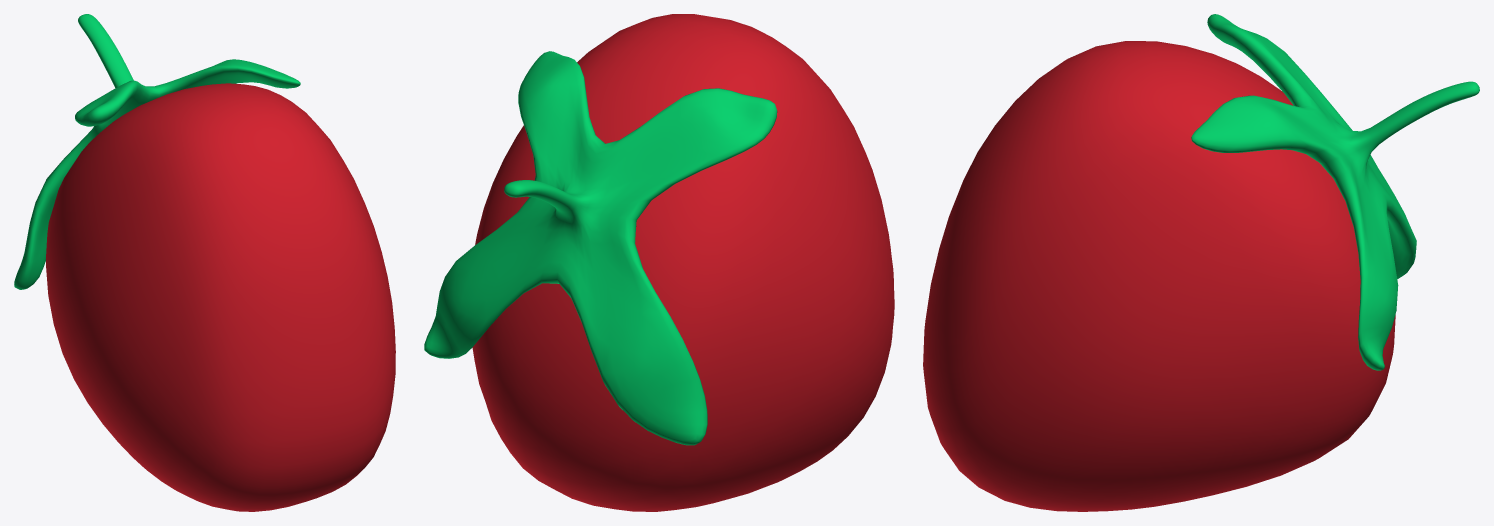
File: strawberrysmooth.fbx
3 renders of one model, left to right at view 1: azimuth 30°, elevation 25°; view 2: azimuth 150°, elevation 25°; view 3: azimuth 270°, elevation 25°, orthographic. The views are drawn at different scales.
Visible parts, largest first — view 1: polySurface4; view 2: polySurface4; view 3: polySurface4.
Part boxes in pixels (<box>): polySurface4: <box>14,14,395,511</box>; polySurface4: <box>424,14,894,511</box>; polySurface4: <box>923,14,1479,511</box>.
Bounding box in the file's own units: 1.17 × 1.52 × 1.76.
